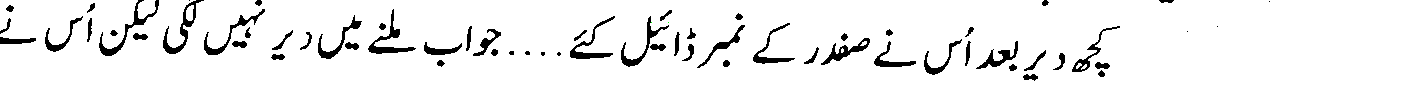bay_shosha: (715, 37, 730, 71)
